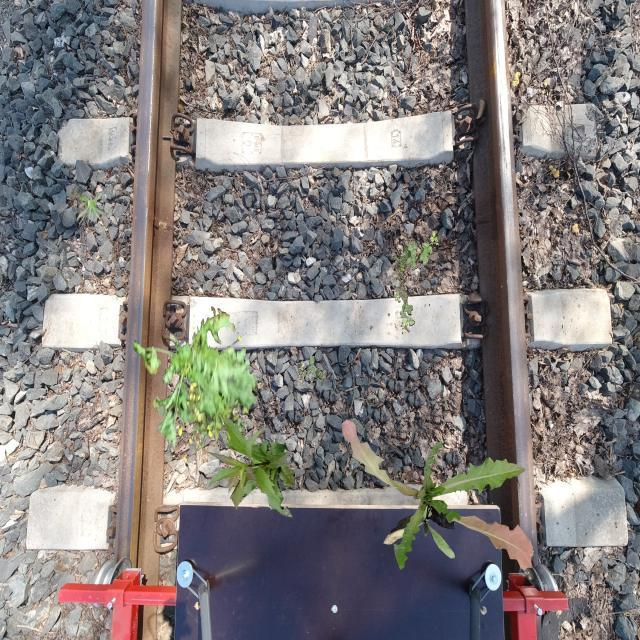Plant: (341, 419, 534, 571), (133, 307, 258, 454), (207, 420, 296, 518), (167, 358, 242, 463), (183, 335, 258, 440), (383, 484, 454, 558), (391, 231, 439, 334), (152, 380, 238, 432), (77, 192, 110, 227), (299, 355, 326, 386)
